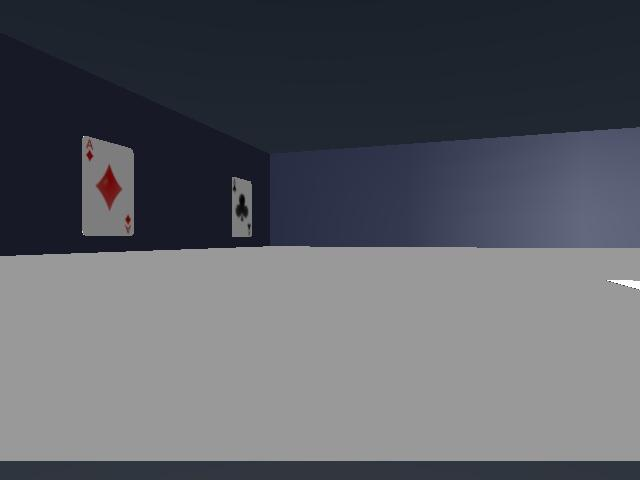club: (232, 177, 252, 236)
diamond: (82, 136, 134, 235)
